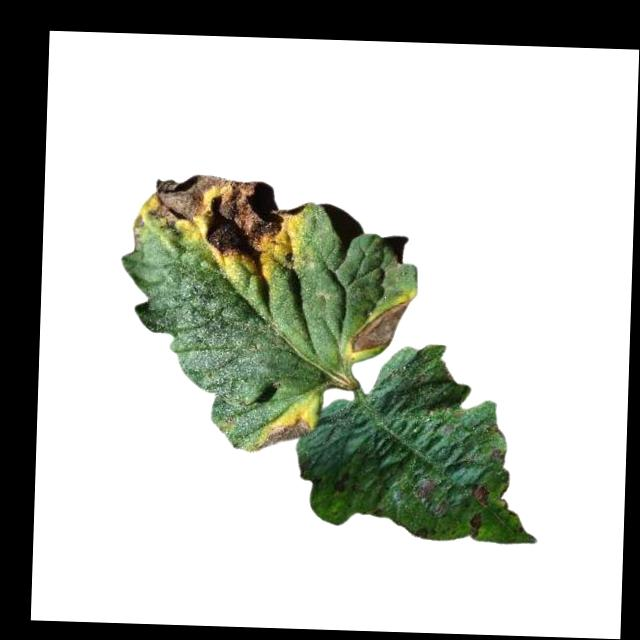Early_blight: (143, 170, 308, 283), (342, 295, 415, 357), (250, 413, 318, 454), (412, 476, 441, 503), (466, 486, 492, 513), (468, 514, 484, 540), (484, 448, 507, 464)
